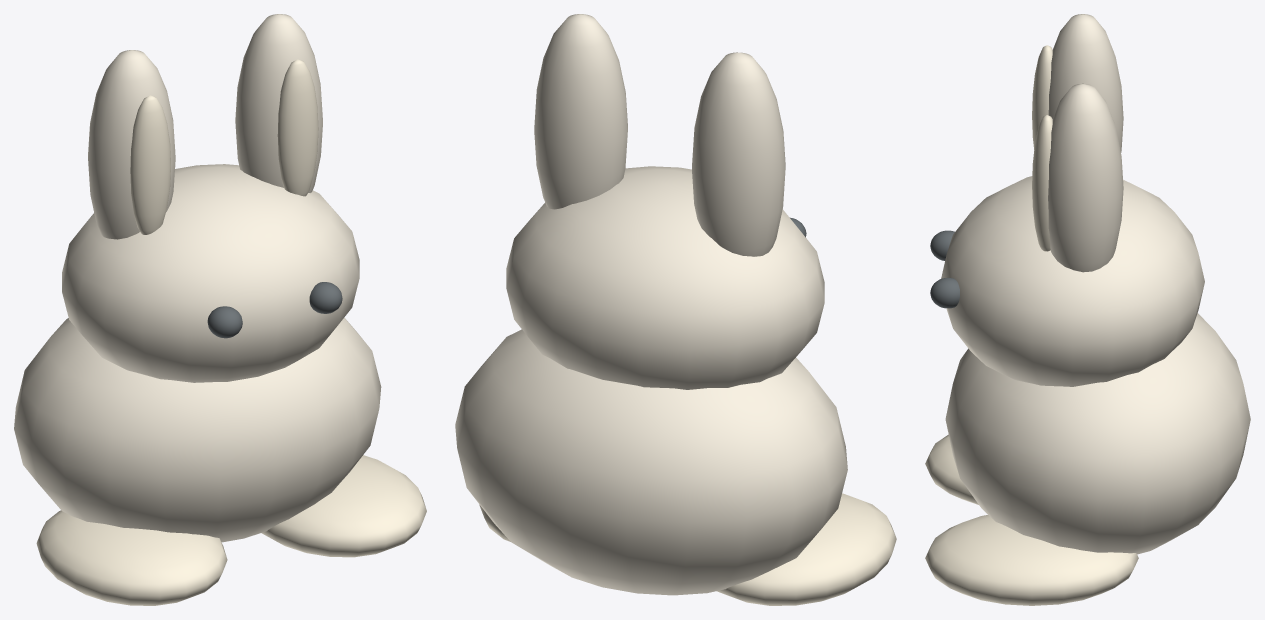
File: candidate.glb
3 views of the same model, side by side, from view 1: azimuth 30°, elevation 25°; view 2: azimuth 150°, elevation 25°; view 3: azimuth 270°, elevation 25° (orthographic). The views are drawn at different scales.
Visible parts, largest first — view 1: body, head, foot (×2), ear (×2), inner-ear (×2), eye (×2); view 2: body, head, ear (×2), foot; view 3: body, head, ear (×2), foot (×2), inner-ear (×2), eye (×2).
Part boxes in pixels (box(x1,y1,x2,y2)): body: box(14, 317, 381, 542); head: box(62, 164, 359, 382); foot (×2): box(36, 455, 426, 605); ear (×2): box(88, 14, 322, 239); inner-ear (×2): box(130, 59, 318, 234); eye (×2): box(207, 282, 342, 338); body: box(455, 329, 847, 595); head: box(506, 166, 824, 389); ear (×2): box(534, 14, 785, 256); foot: box(717, 493, 896, 605); body: box(945, 313, 1250, 554); head: box(941, 176, 1204, 386); ear (×2): box(1048, 14, 1123, 272); foot (×2): box(925, 434, 1138, 605); inner-ear (×2): box(1032, 45, 1052, 251); eye (×2): box(930, 230, 959, 308).
Size of the model in its own units: 0.11 by 0.15 by 0.09.
